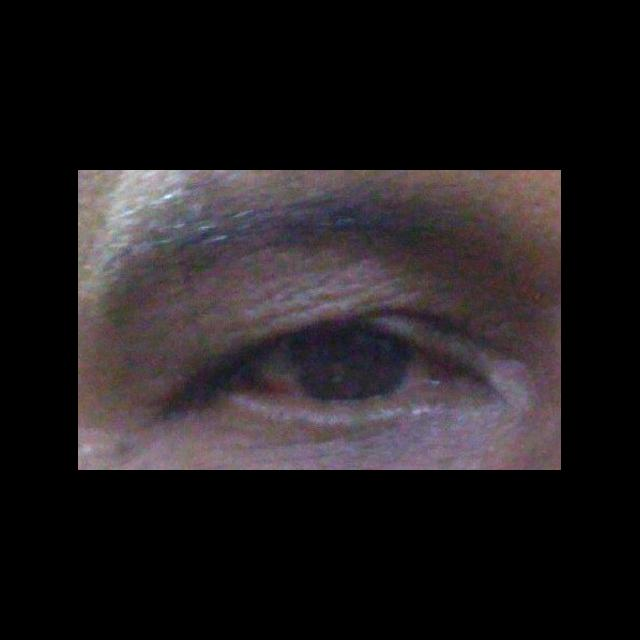eye: (242, 330, 442, 403)
iris: (296, 332, 404, 403)
